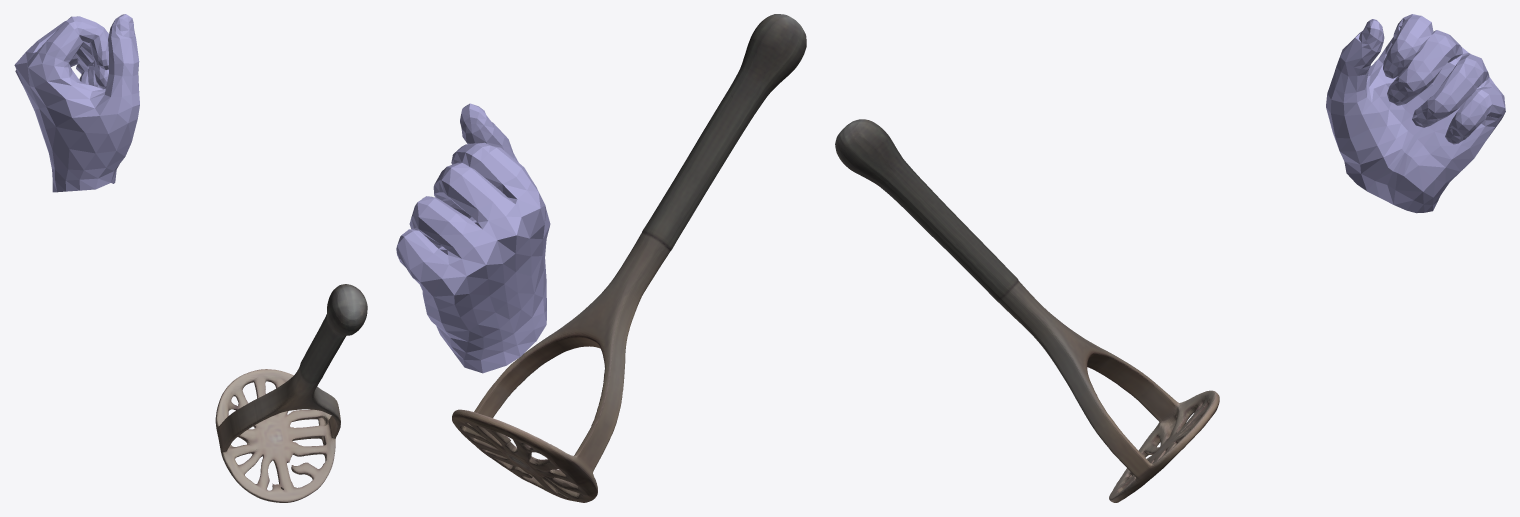
The model's file is frame_0062_source_000062_hand_object.glb.
The picture shows the model from 3 angles, left to right: view 1: azimuth 30°, elevation 25°; view 2: azimuth 150°, elevation 25°; view 3: azimuth 270°, elevation 25°; orthographic projection. The views are drawn at different scales.
Visible parts, largest first — view 1: world; view 2: world; view 3: world.
Boxes of the visible parts, x1,y1,x2,y2 form: world: (14, 14, 367, 502); world: (396, 14, 806, 502); world: (835, 14, 1505, 502).
Bounding box in the file's own units: 0.1261 × 0.2727 × 0.3677.
